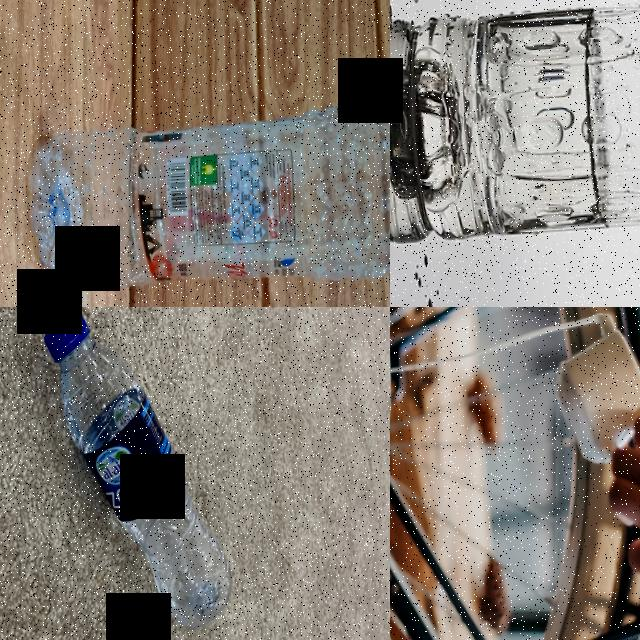bottle: (24, 86, 390, 307), (34, 307, 237, 639), (390, 0, 640, 254)
